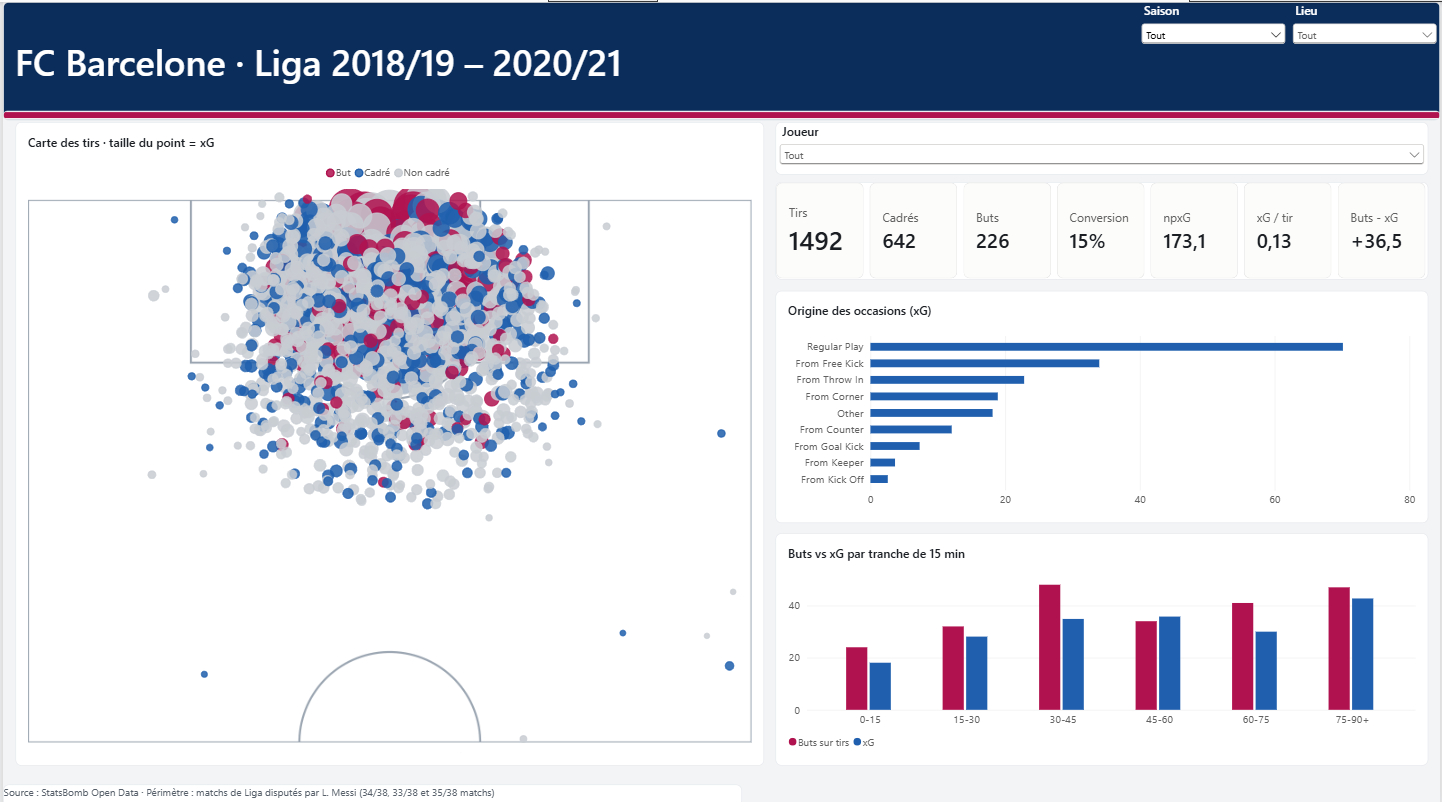

What the dashboard file says about the page in this screenshot:
{"tool":"powerbi","page":{"name":"Attaque","canvas":[1920,1080],"ordinal":1},"visuals":[{"type":"shape","box":[0,0,1920,158],"z":0},{"type":"cardVisual","fields":{"Data":["_Mesures.Titre rapport"]},"box":[0,0,1516.1,158],"z":1000},{"type":"slicer","fields":{"Values":["DimMatch.season"]},"box":[1516.1,0,202,158],"z":2000},{"type":"slicer","fields":{"Values":["DimMatch.venue"]},"box":[1718,0,202,158],"z":3000},{"type":"shape","box":[0,146,1920,12],"z":9000},{"type":"textbox","box":[0,1045,987.4,30],"z":11000},{"type":"scatterChart","title":"Carte des tirs · taille du point = xG","fields":{"Category":["FactShots.shot_id"],"Series":["FactShots.shot_result"],"Size":["Sum(FactShots.xg)"],"X":["Sum(FactShots.map_x)"],"Y":["Sum(FactShots.map_y)"]},"box":[16,160,1000,860],"z":11001},{"type":"slicer","fields":{"Values":["DimPlayer.player_name"]},"box":[1032,160,872,70],"z":11002},{"type":"cardVisual","fields":{"Data":["_Mesures.Tirs","_Mesures.Tirs cadrés","_Mesures.Buts sur tirs","_Mesures.Taux de conversion","_Mesures.npxG","_Mesures.xG par tir","_Mesures.Buts - xG"]},"box":[1032,240,872,130],"z":11003},{"type":"clusteredBarChart","title":"Origine des occasions (xG)","fields":{"Category":["FactShots.play_pattern"],"Y":["_Mesures.xG"]},"box":[1032,385,872,310],"z":11004},{"type":"clusteredColumnChart","title":"Buts vs xG par tranche de 15 min","fields":{"Category":["FactShots.minute_bucket"],"Y":["_Mesures.Buts sur tirs","_Mesures.xG"]},"box":[1032,710,872,310],"z":11005}]}

Visuals, with their boxes in screenshot pixels (x1, y1, x2, y2), scaled from the page's 1920x1080 canvas onto the 1442x802 screenshot:
shape: (left=0, top=0, right=1441, bottom=117)
cardVisual - _Mesures.Titre rapport: (left=0, top=0, right=1139, bottom=117)
slicer - DimMatch.season: (left=1139, top=0, right=1290, bottom=117)
slicer - DimMatch.venue: (left=1290, top=0, right=1441, bottom=117)
shape: (left=0, top=108, right=1441, bottom=117)
textbox: (left=0, top=776, right=742, bottom=798)
"Carte des tirs · taille du point = xG" scatterChart: (left=12, top=119, right=763, bottom=757)
slicer - DimPlayer.player_name: (left=775, top=119, right=1430, bottom=171)
cardVisual - _Mesures.Tirs x _Mesures.Tirs cadrés: (left=775, top=178, right=1430, bottom=275)
"Origine des occasions (xG)" clusteredBarChart: (left=775, top=286, right=1430, bottom=516)
"Buts vs xG par tranche de 15 min" clusteredColumnChart: (left=775, top=527, right=1430, bottom=757)
